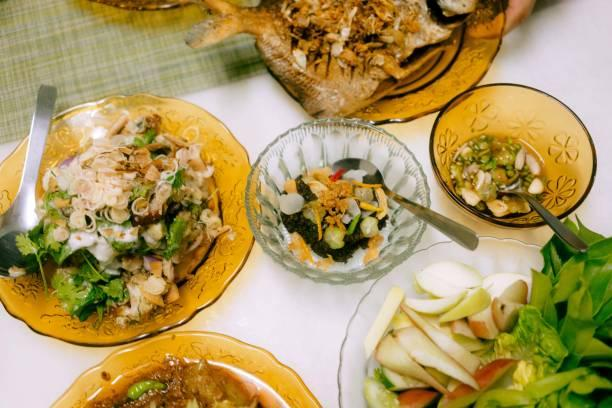Braised Crucian Carp: (3, 92, 256, 344), (243, 117, 428, 284)
